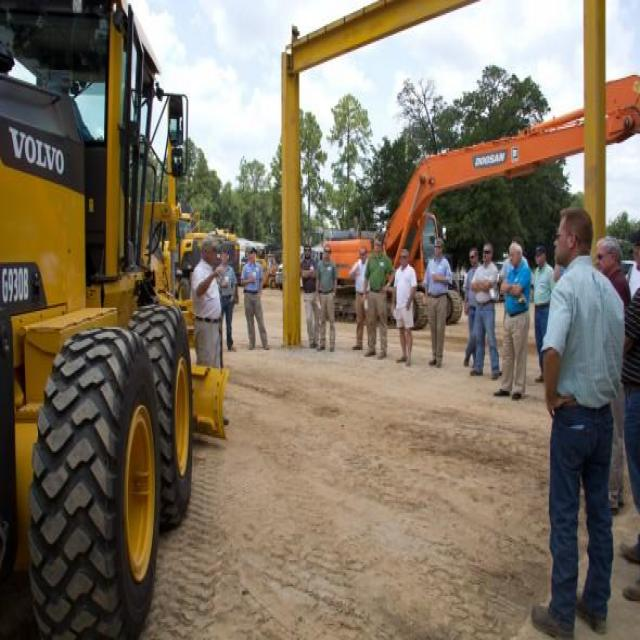Grader: (0, 0, 234, 633)
